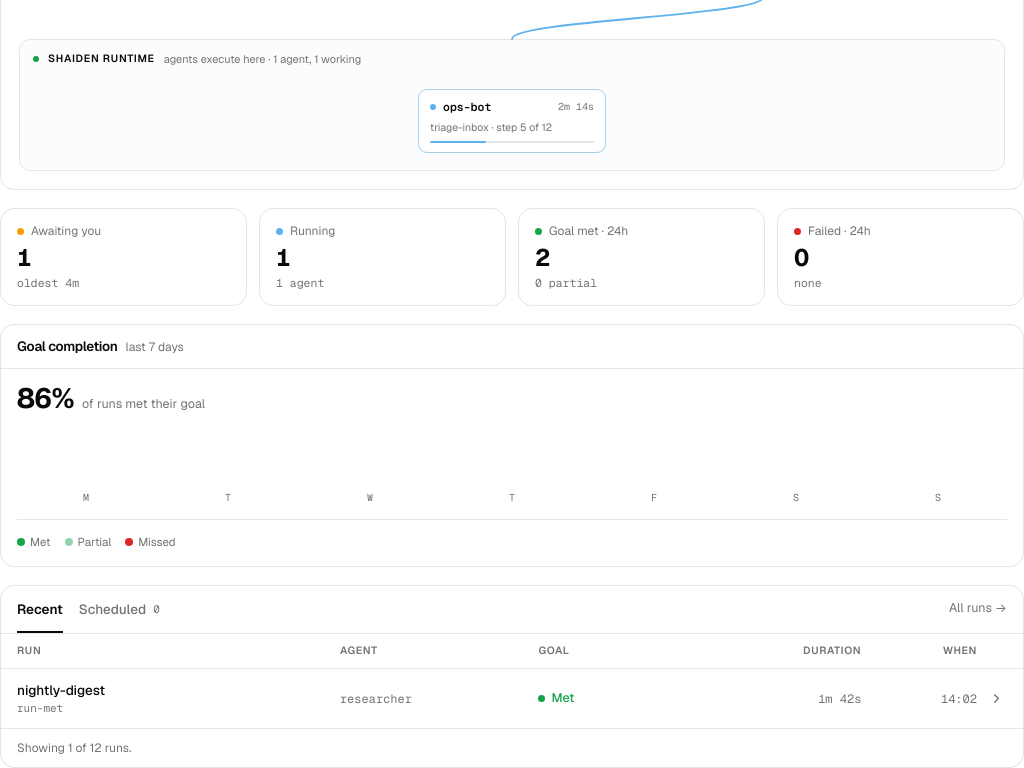
Test case: HomeView › switches the runs table to the scheduled tab
(page scrolled)
Click the button "Scheduled 0" at [119, 609], box [79,585,160,634]
(page scrolled)
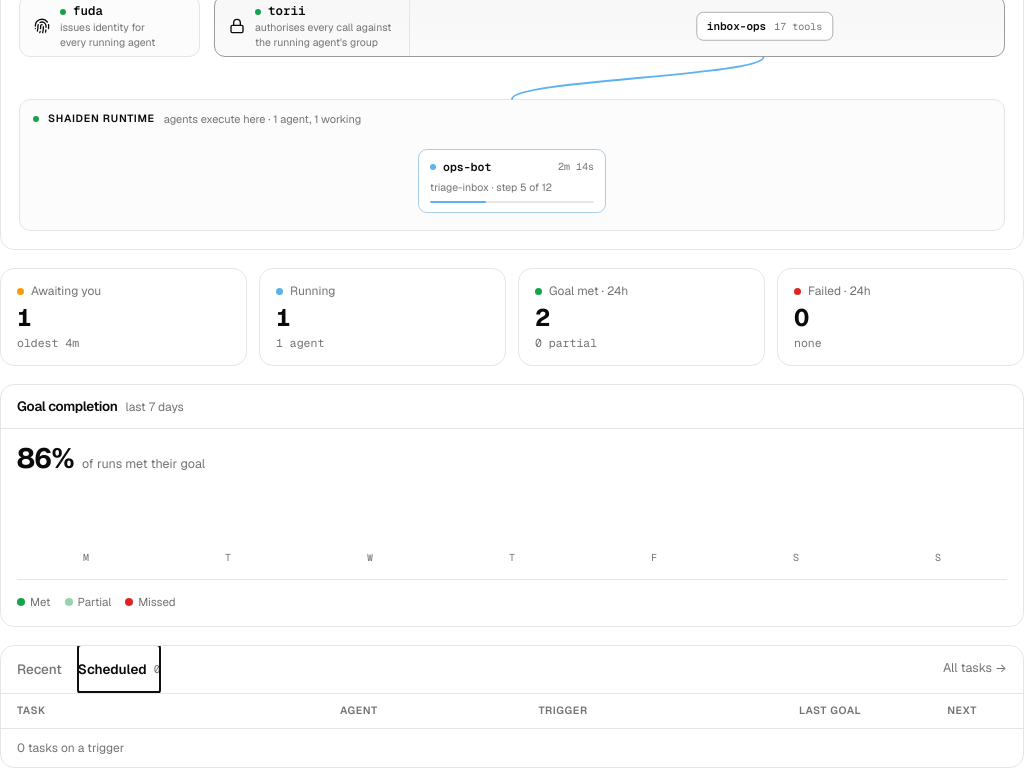
expect the text "0 tasks on a trigger" is shown: met, box [17,740,124,756]
